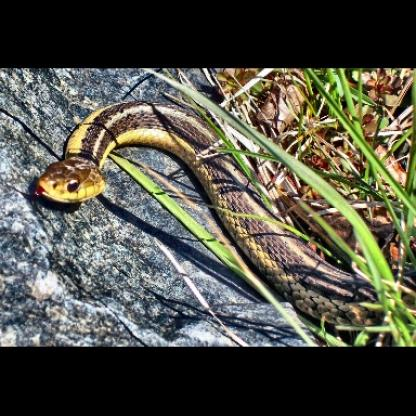Snake: (27, 94, 392, 330)
